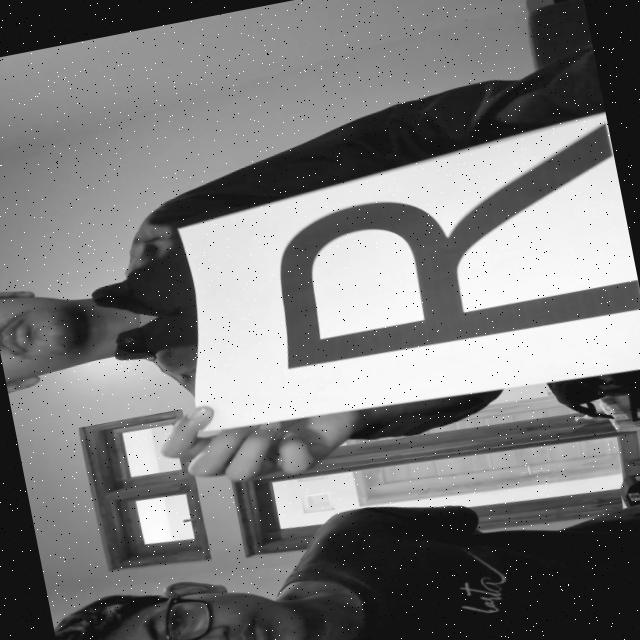r: (233, 90, 640, 390)
